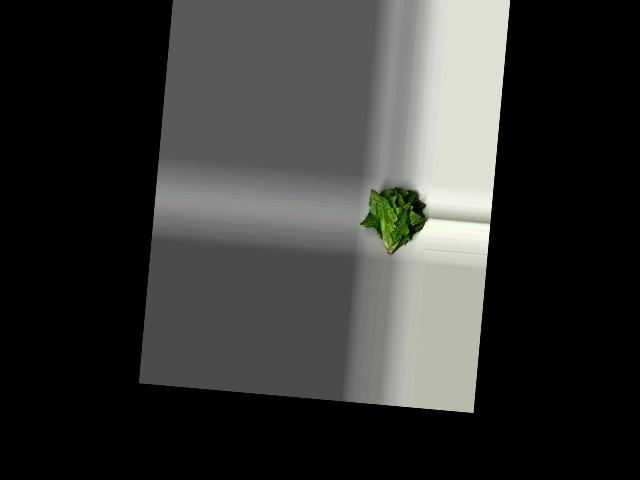lettuce: (359, 181, 432, 262)
